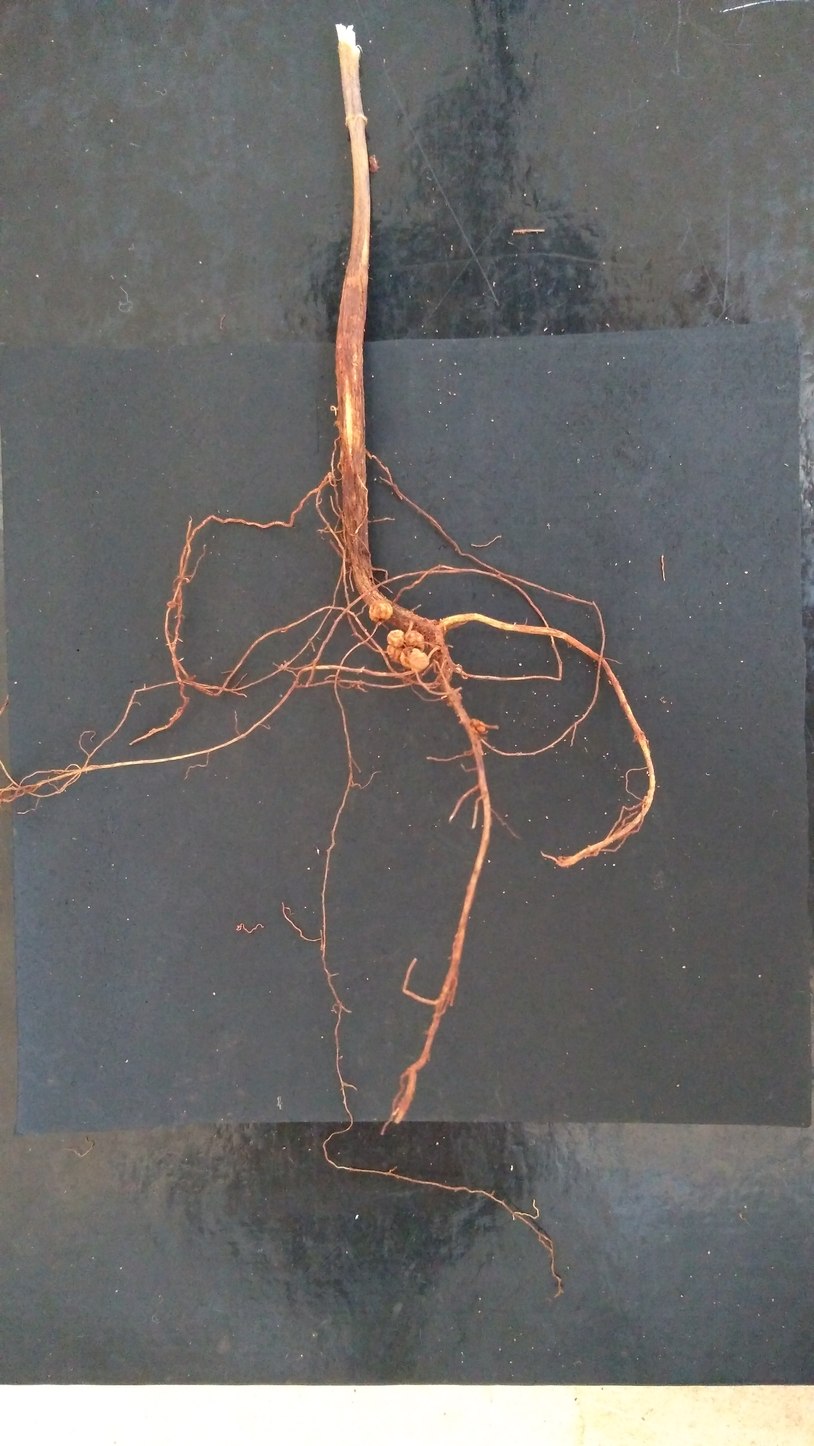nodule: (400, 646, 429, 672), (369, 602, 393, 622), (404, 630, 423, 652), (386, 630, 405, 648), (387, 644, 403, 663), (471, 718, 486, 733), (368, 154, 379, 173), (454, 664, 462, 674), (333, 420, 341, 427)
